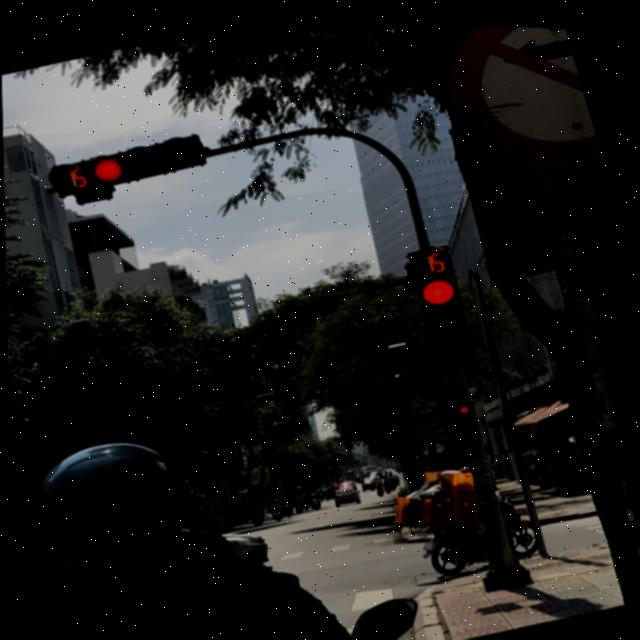Red: (72, 118, 208, 195), (410, 261, 483, 370), (446, 389, 484, 441)
